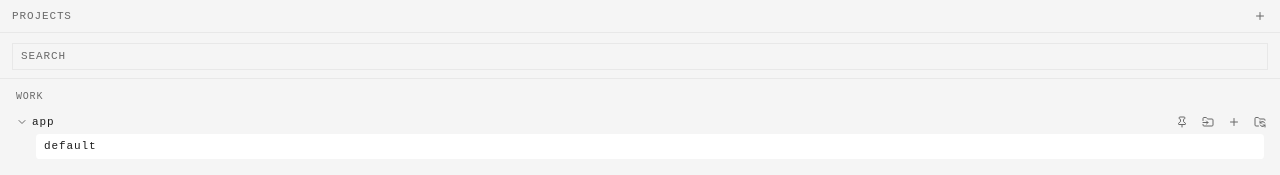
Test case: ProjectLeftPanel › collapses and expands project trunk tree
The image size is (1280, 175).
Expected: the button "default" is shown, [36,134,1264,158]
Click the button "app" at (22, 122), box [8,110,1168,134]
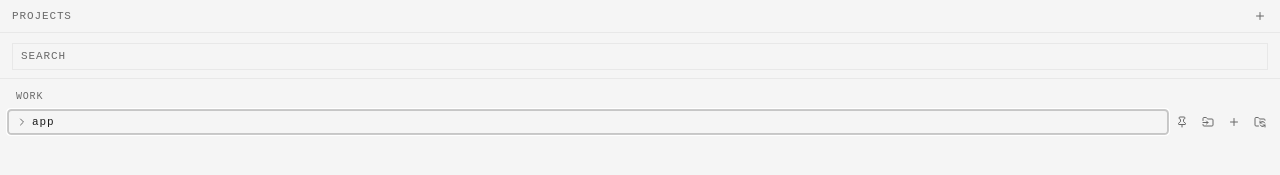
Expected: the button "default" is gone
Click the button "app" at (22, 122), box [8,110,1168,134]
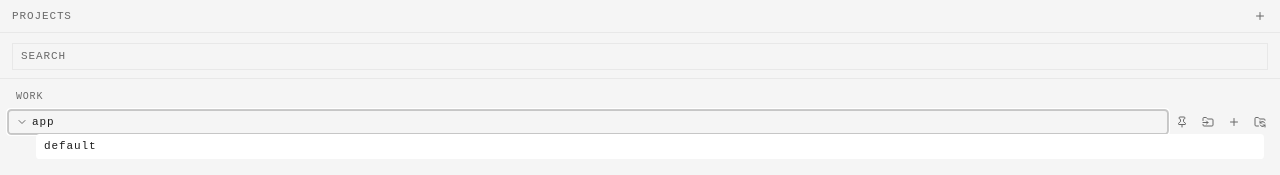
Expected: the button "default" is shown, [36,134,1264,158]
